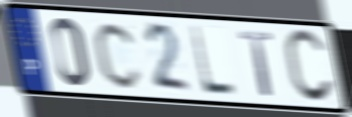0: (49, 15, 91, 89)
2: (144, 20, 193, 97)
C: (282, 27, 337, 107), (92, 19, 144, 91)
L: (188, 24, 239, 99)
T: (236, 29, 276, 99)
